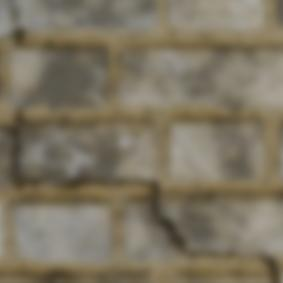brick: (118, 45, 282, 108), (13, 197, 111, 261), (10, 46, 108, 107), (169, 119, 264, 179), (169, 0, 263, 30), (0, 271, 156, 282), (175, 273, 267, 282), (0, 200, 4, 253), (277, 0, 282, 24), (280, 129, 282, 161), (280, 167, 282, 180)
broken_brick: (20, 119, 157, 183), (160, 191, 282, 255), (15, 0, 155, 29), (124, 196, 178, 261), (0, 124, 14, 188), (0, 0, 10, 34)
crack: (2, 106, 280, 282), (173, 136, 212, 179), (7, 0, 28, 47), (220, 153, 233, 179), (96, 85, 107, 101), (175, 175, 200, 182), (153, 130, 156, 142)
